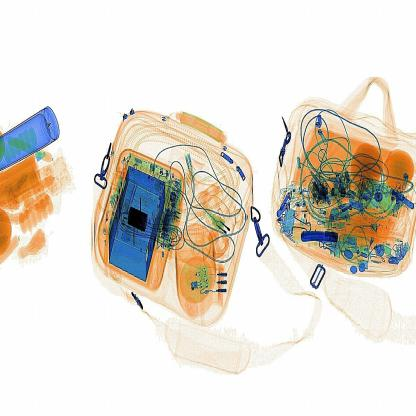knife: (301, 228, 342, 249)
